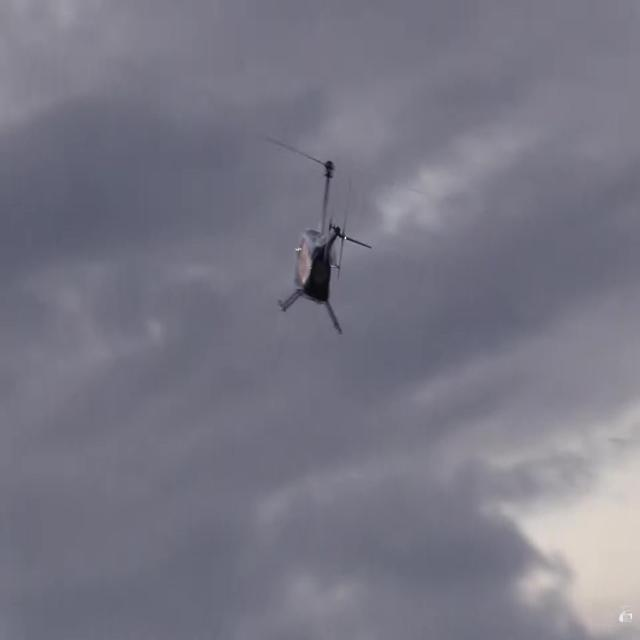CIV_HELO: (277, 160, 373, 340)
